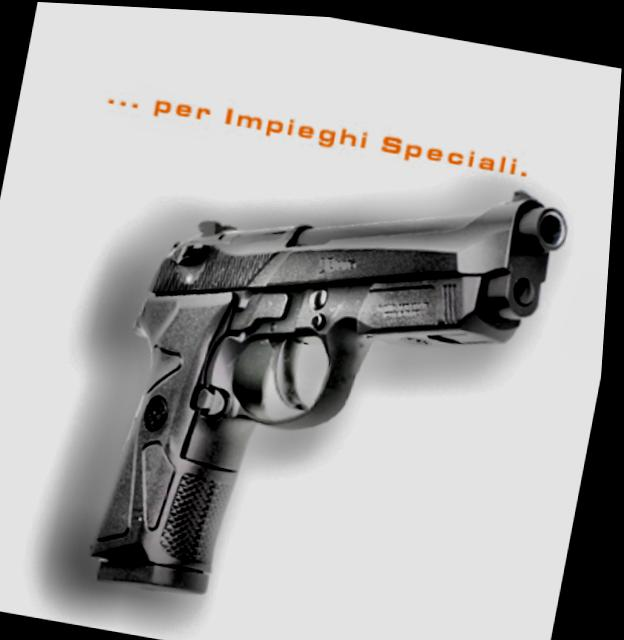pistol: (85, 122, 581, 640)
